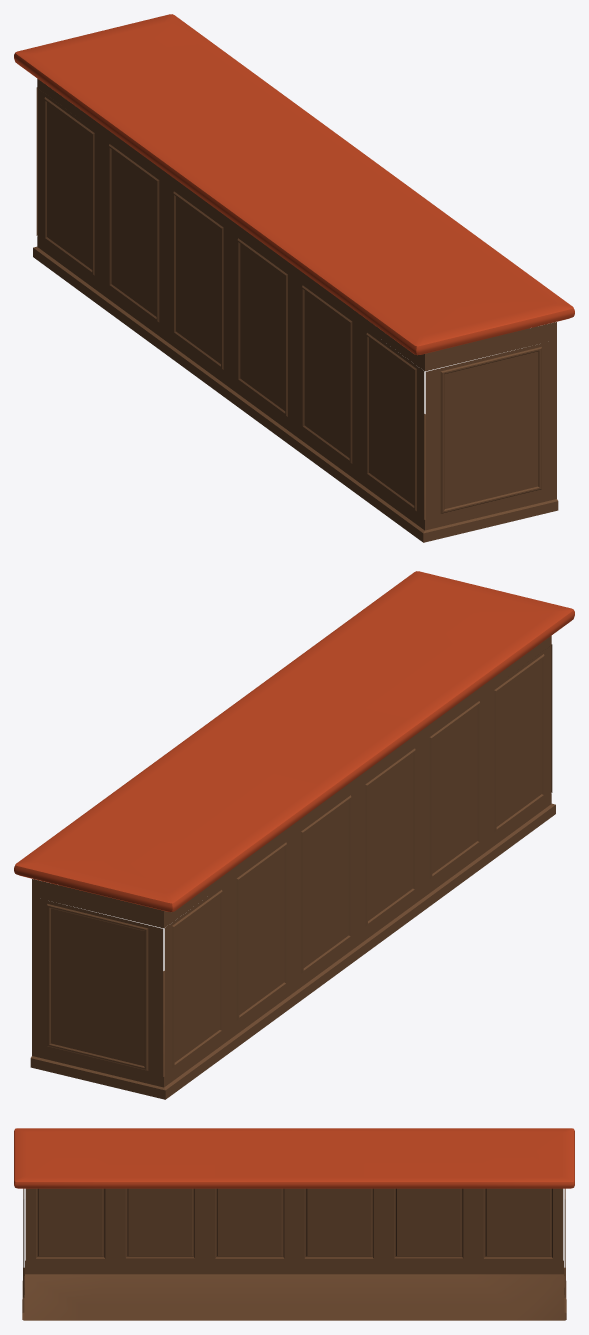
The model's file is ME_SE_CounterBack.fbx.
3 views of the same model, one above another, from view 1: azimuth 30°, elevation 25°; view 2: azimuth 150°, elevation 25°; view 3: azimuth 270°, elevation 25° (orthographic). The views are drawn at different scales.
Visible parts, largest first — view 1: ME_SE_CounterBack; view 2: ME_SE_CounterBack; view 3: ME_SE_CounterBack.
Part boxes in pixels (bbox=[...]): ME_SE_CounterBack: bbox=[14, 14, 574, 542]; ME_SE_CounterBack: bbox=[14, 571, 574, 1099]; ME_SE_CounterBack: bbox=[14, 1128, 574, 1320].
Size of the model in its own units: 10167 by 12437 by 44245.
